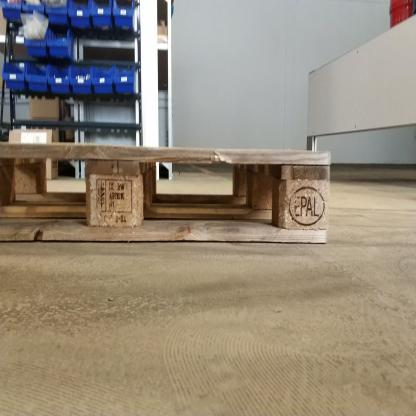BoxFace: (0, 142, 332, 244)
